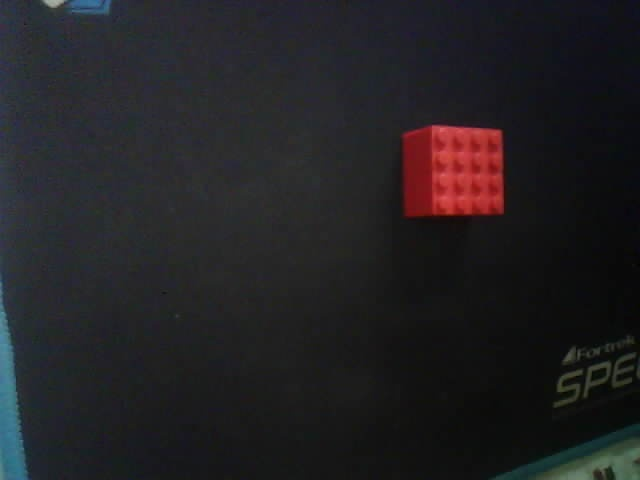lego: (399, 124, 505, 218)
